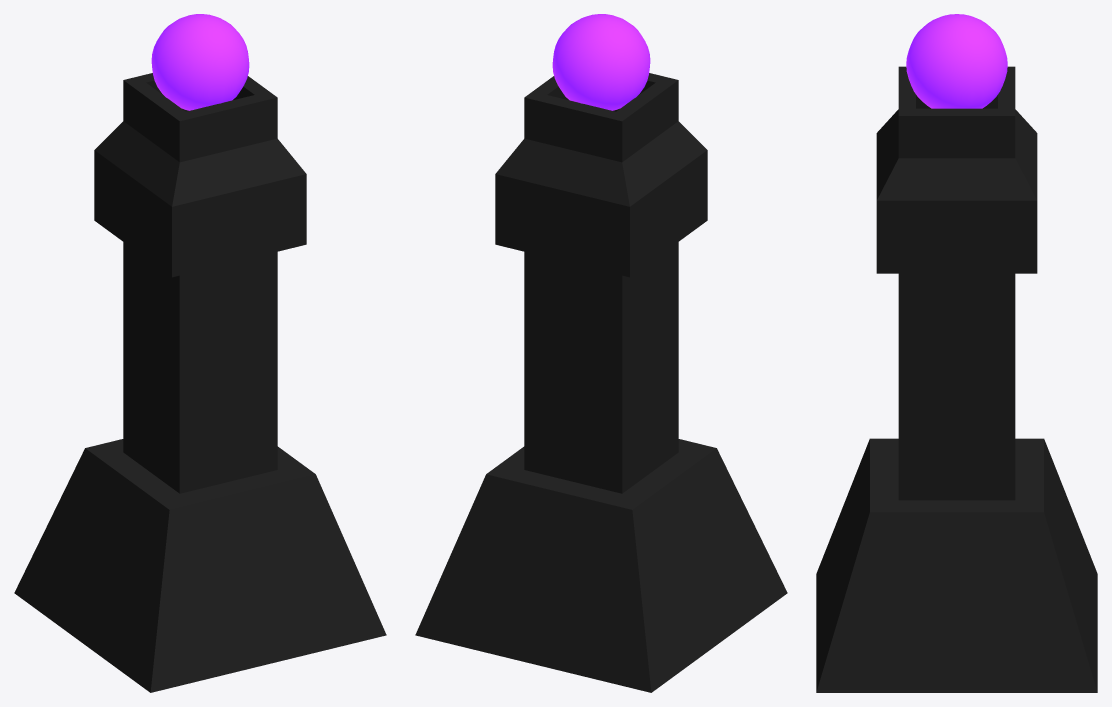
File: turret block out.fbx
The picture shows the model from 3 angles, left to right: view 1: azimuth 30°, elevation 25°; view 2: azimuth 150°, elevation 25°; view 3: azimuth 270°, elevation 25°; orthographic projection. The views are drawn at different scales.
Parts seen in each view (by area): view 1: Main Tower, Orb; view 2: Main Tower, Orb; view 3: Main Tower, Orb.
Part boxes in pixels (left/top/right/bottom): Main Tower: left=14, top=73, right=386, bottom=692; Orb: left=151, top=14, right=249, bottom=110; Main Tower: left=415, top=73, right=787, bottom=692; Orb: left=552, top=14, right=650, bottom=110; Main Tower: left=816, top=66, right=1097, bottom=692; Orb: left=906, top=14, right=1007, bottom=108.
Bounding box in the file's own units: 161 × 389 × 161.
